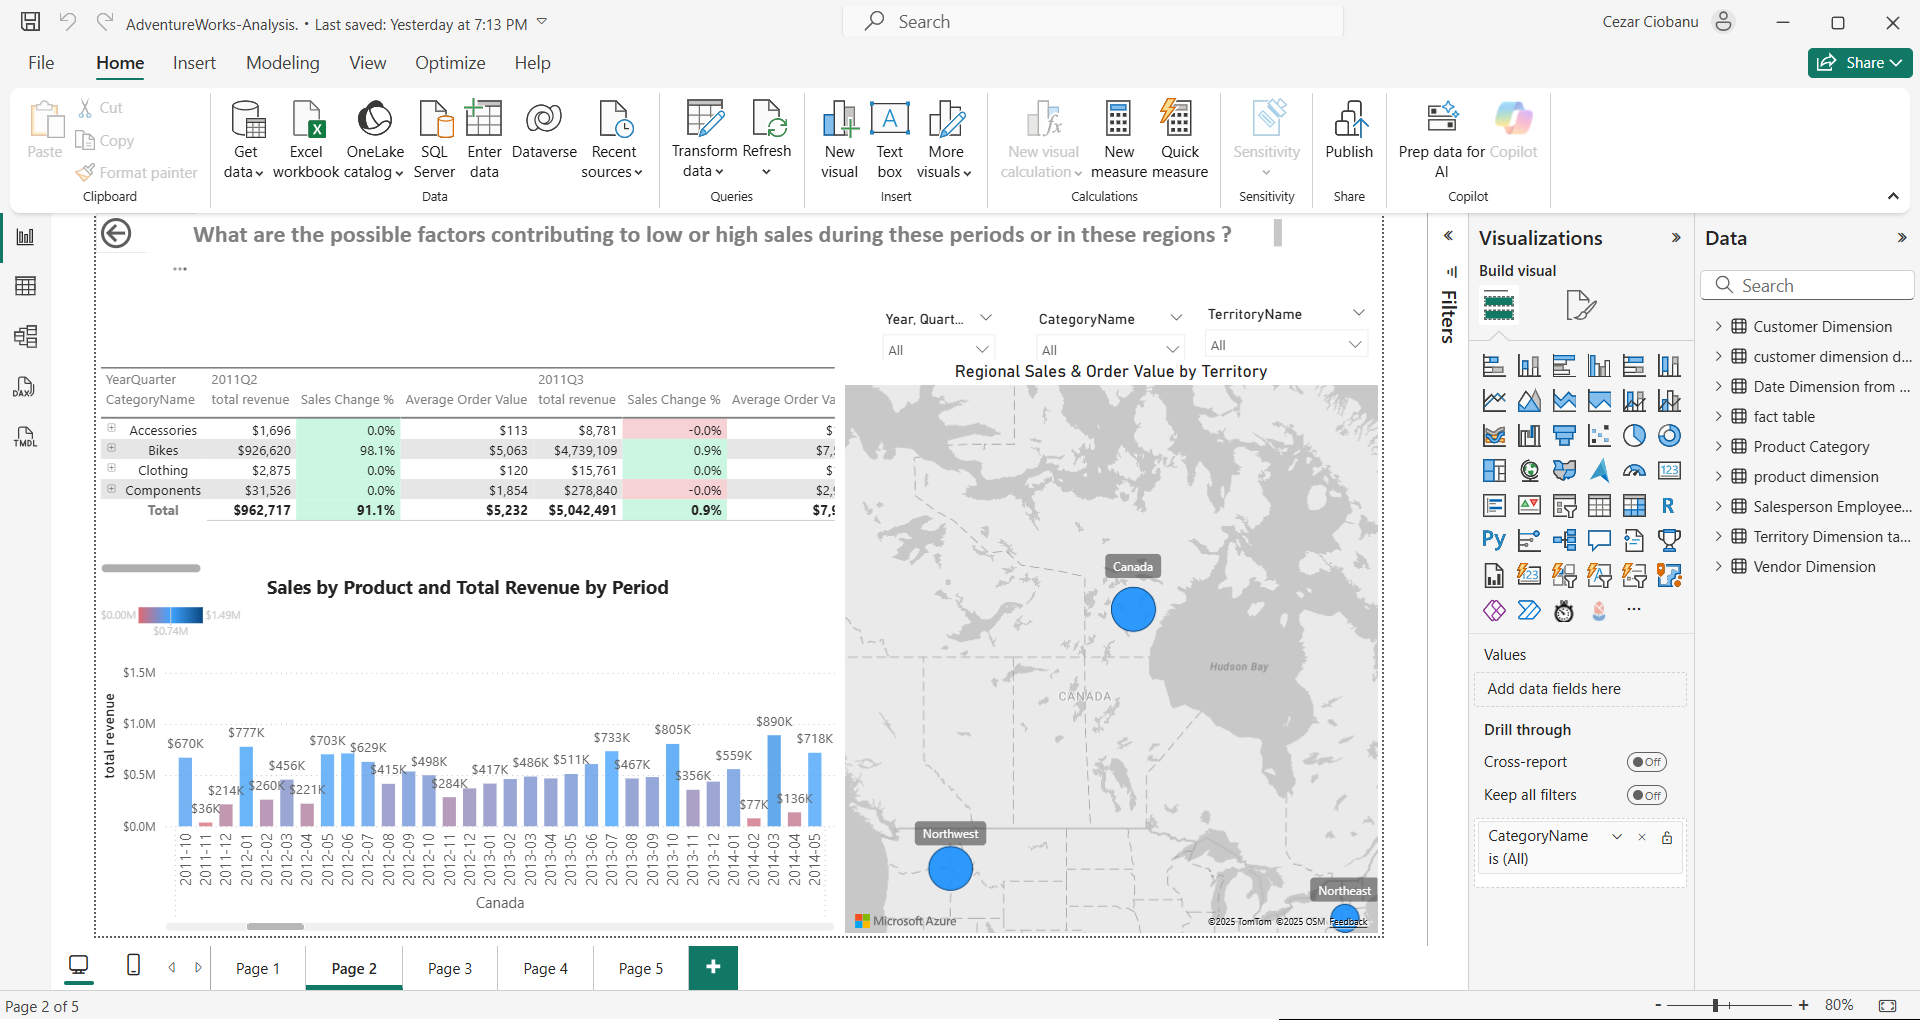

The page's visual inventory and layout, read from the dashboard file:
{"tool":"powerbi","page":{"name":"Page 2","canvas":[1280,720],"ordinal":1},"visuals":[{"type":"columnChart","title":"Sales by Product and Total Revenue by Period","fields":{"Category":["Territory Dimension table.TerritoryName","Date Dimension from orders.Period"],"Y":["fact table.total revenue"]},"box":[0,359.5,740.2,360.7],"z":0},{"type":"slicer","title":"Period","fields":{"Values":["Date Dimension from orders.Year","Date Dimension from orders.Quarter"]},"box":[772.2,92.2,132.2,56.7],"z":1000},{"type":"actionButton","box":[0,0,100,40],"z":2000},{"type":"slicer","fields":{"Values":["Product Category.CategoryName"]},"box":[925,92.5,168.8,55],"z":3000},{"type":"slicer","fields":{"Values":["Territory Dimension table.TerritoryName"]},"box":[1093.8,87.5,182.5,60],"z":4000},{"type":"textbox","box":[50,1.7,1135,38.3],"z":5000},{"type":"pivotTable","fields":{"Rows":["Product Category.CategoryName","product dimension.ProductName"],"Columns":["Date Dimension from orders.YearQuarter"],"Values":["fact table.total revenue","fact table.Sales Change %","fact table.Average Order Value"]},"box":[0,147.5,740,215],"z":6000},{"type":"azureMap","title":"Regional Sales & Order Value by Territory ","fields":{"Category":["Territory Dimension table.TerritoryName","Territory Dimension table.TerritoryGroup","Territory Dimension table.CountryRegionCode"],"Size":["fact table.total revenue"]},"box":[740,146.2,540,573.8],"z":7000}]}

Visuals, with their boxes on the page's 1280x720 design canvas (x1, y1, x2, y2). These are canvas units, not pixel positions in the 1920x1020 screenshot, which may show the page scaled, cropped or inside an application window:
"Sales by Product and Total Revenue by Period" columnChart: (x1=0, y1=360, x2=740, y2=720)
"Period" slicer: (x1=772, y1=92, x2=904, y2=149)
actionButton: (x1=0, y1=0, x2=100, y2=40)
slicer - Product Category.CategoryName: (x1=925, y1=92, x2=1094, y2=148)
slicer - Territory Dimension table.TerritoryName: (x1=1094, y1=88, x2=1276, y2=148)
textbox: (x1=50, y1=2, x2=1185, y2=40)
pivotTable - Product Category.CategoryName x product dimension.ProductName: (x1=0, y1=148, x2=740, y2=362)
"Regional Sales & Order Value by Territory " azureMap: (x1=740, y1=146, x2=1280, y2=720)
